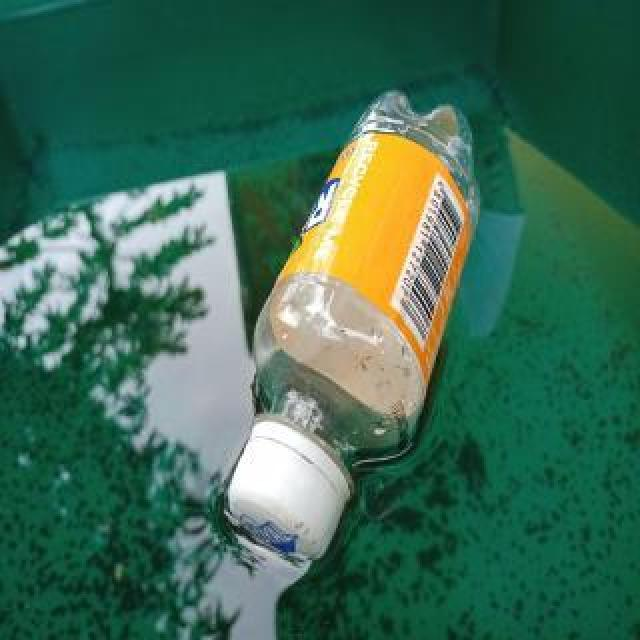bottle: (225, 85, 483, 565)
